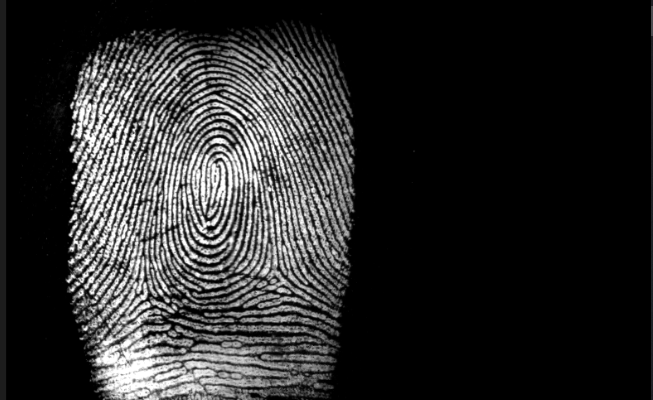deltas: (118, 267, 182, 316), (249, 253, 304, 305)
nucleo: (189, 139, 241, 200)
